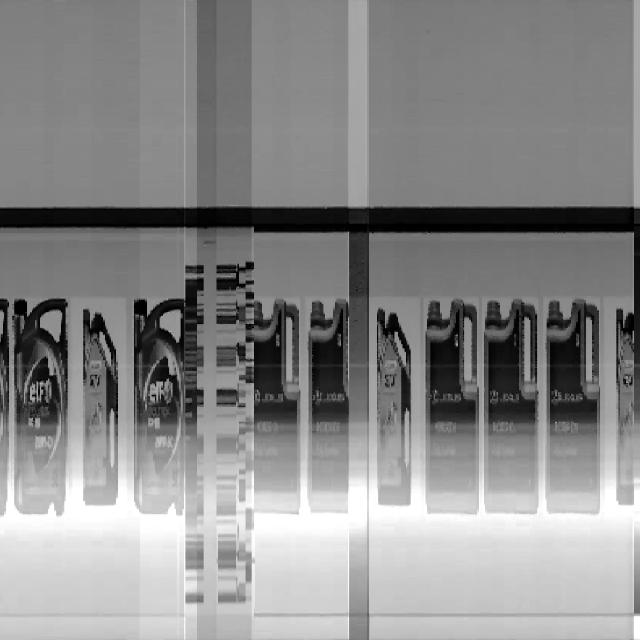motor_oil: (11, 294, 72, 520), (423, 298, 481, 519), (131, 296, 188, 520), (544, 297, 602, 517), (482, 296, 538, 522), (246, 297, 303, 513), (374, 294, 421, 512), (308, 297, 350, 515), (80, 300, 124, 507)
